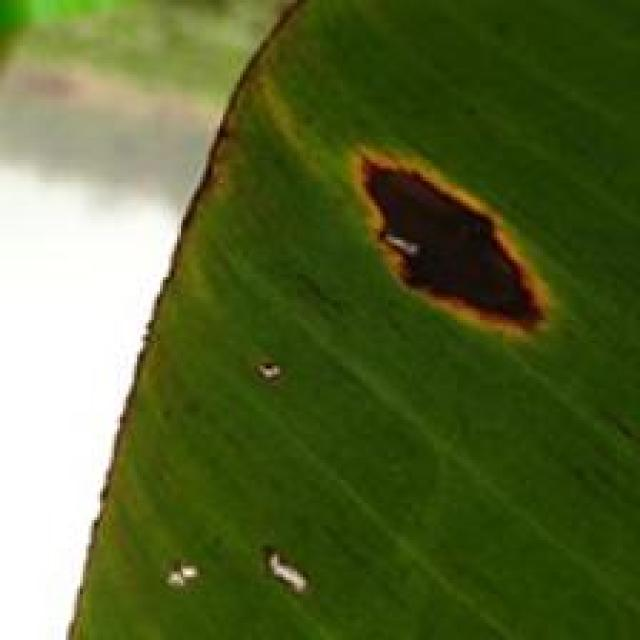Bacterial_spot: (314, 109, 576, 358), (132, 97, 228, 380), (63, 362, 141, 637), (214, 0, 311, 134), (233, 348, 319, 408), (252, 528, 318, 605), (139, 548, 227, 596)
